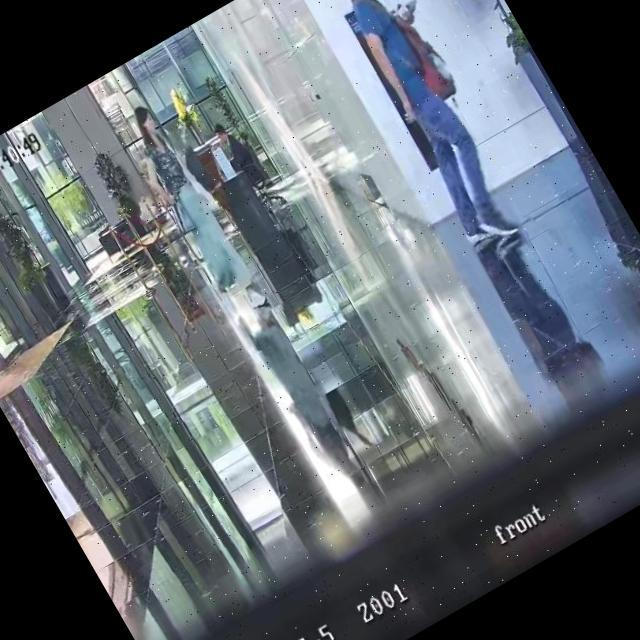person: (308, 0, 543, 257), (113, 96, 264, 310), (212, 116, 268, 194)
